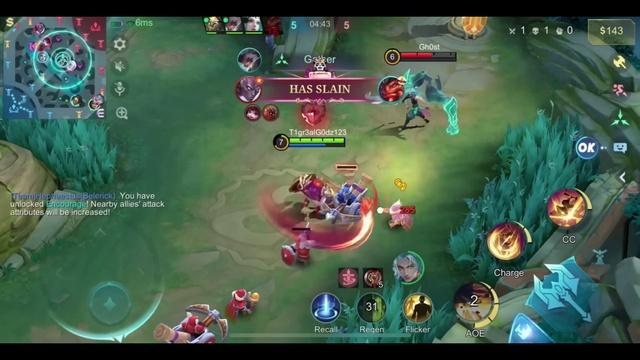Adc_Enemigo: (33, 22, 48, 34)
Arbusto: (448, 111, 597, 283), (7, 120, 117, 191), (343, 276, 453, 342)
EXP_Lane: (5, 15, 16, 28), (95, 108, 103, 117)
Esbirro_Aliado: (154, 304, 227, 342), (225, 289, 258, 319), (281, 233, 310, 264)
Esbirro_Enemigo: (320, 183, 367, 222)
Exp_Aliado: (90, 100, 99, 109)
Exp_Enemigo: (93, 93, 106, 106)
HP_Enemigo: (399, 50, 455, 59)
HP_Heroe_Principal: (289, 138, 347, 144)
Hechizo_Batalla: (403, 293, 432, 323)
Jungla_Aliado: (57, 55, 68, 68)
Jungla_Enemigo: (34, 40, 45, 51)
Mana: (289, 143, 344, 147)
Mid_Aliado: (36, 51, 49, 62)
Mid_Enemigo: (41, 36, 52, 47)
Minimapa: (1, 15, 106, 119)
Roamer_Aliado: (69, 94, 82, 106)
Roamer_Enemigo: (66, 60, 78, 71)
Skill2: (487, 221, 531, 259)
Skill3: (547, 189, 591, 226)
Suyou: (400, 70, 457, 134)
Tigreal: (289, 173, 335, 202)
